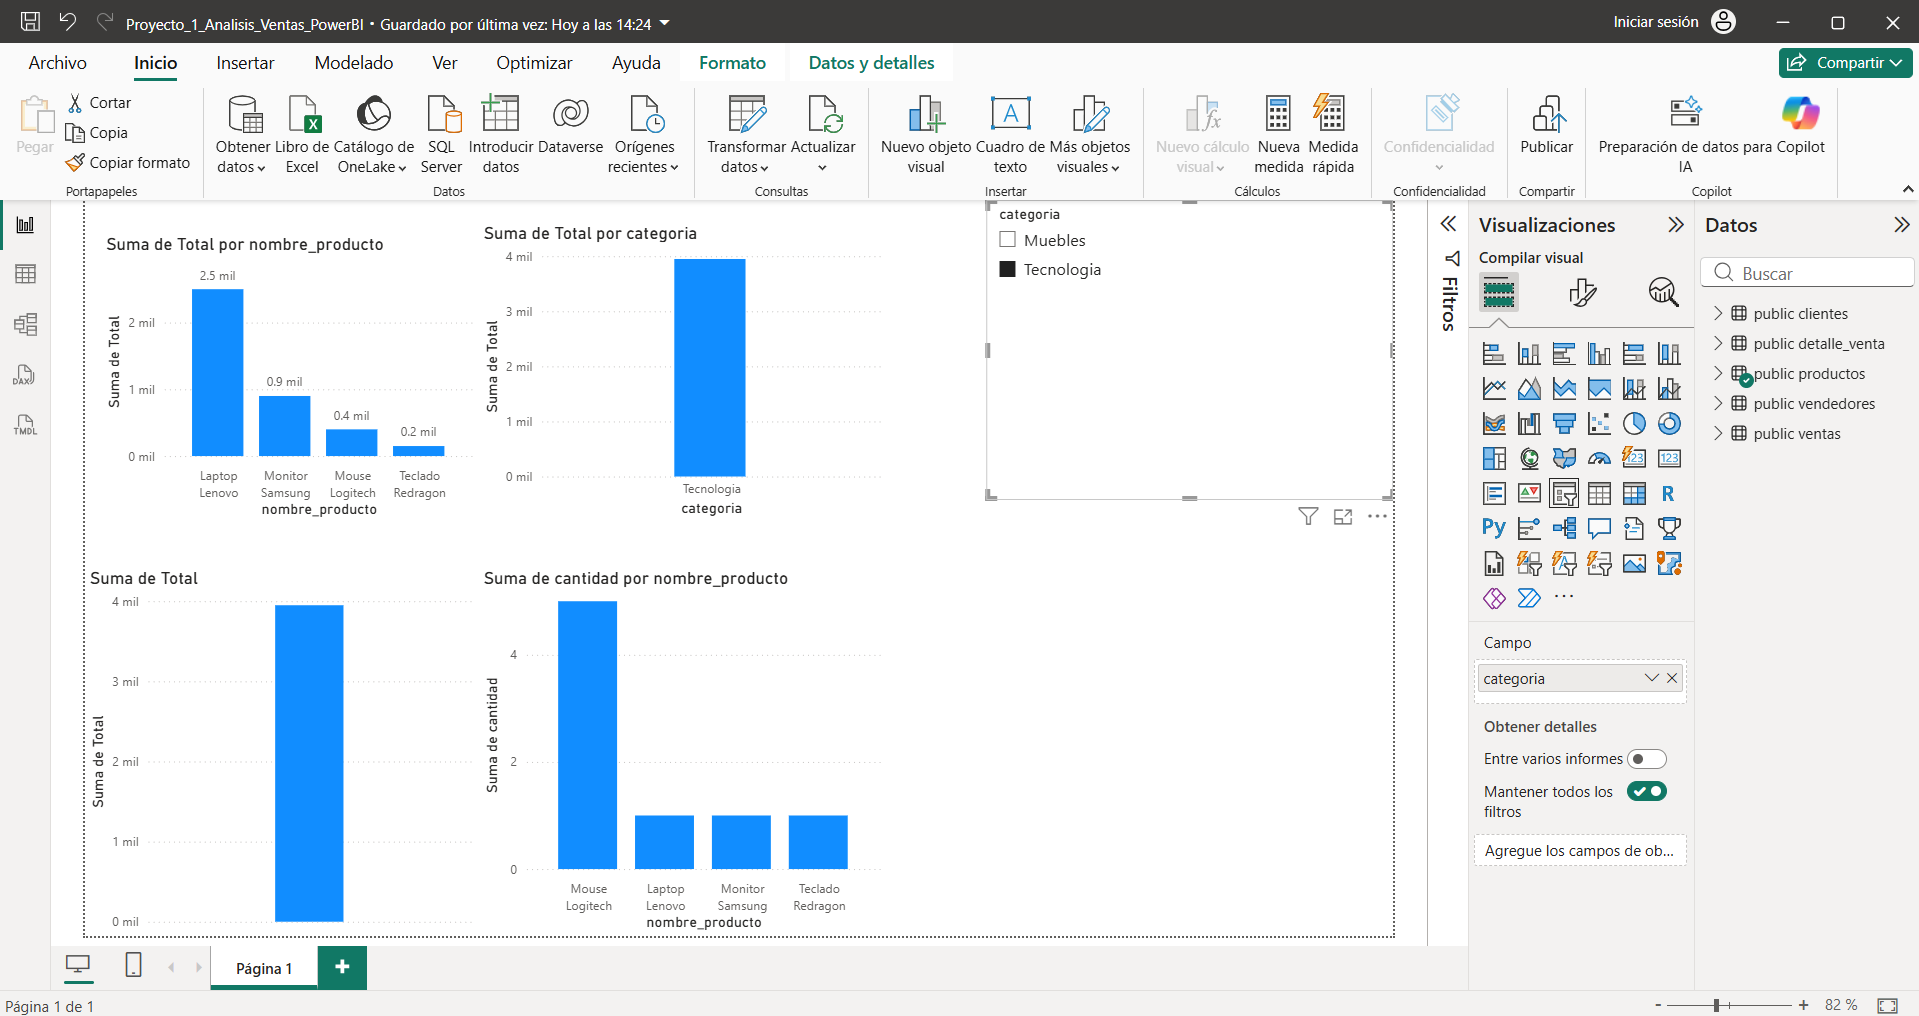

The dashboard page shown, as its layout file describes it:
{"tool":"powerbi","page":{"name":"Página 1","canvas":[1280,720],"ordinal":0},"visuals":[{"type":"clusteredColumnChart","fields":{"Category":["public productos.nombre_producto"],"Y":["Sum(public detalle_venta.Total)"]},"box":[15.9,33,369.3,282.5],"z":0},{"type":"clusteredColumnChart","fields":{"Category":["public productos.categoria"],"Y":["Sum(public detalle_venta.Total)"]},"box":[385,22.5,398.8,292.5],"z":1000},{"type":"clusteredColumnChart","fields":{"Y":["Sum(public detalle_venta.Total)"]},"box":[0,359.5,385.2,360.7],"z":2000},{"type":"clusteredColumnChart","fields":{"Category":["public productos.nombre_producto"],"Y":["Sum(public detalle_venta.cantidad)"]},"box":[385,360,398.8,360],"z":3000},{"type":"slicer","fields":{"Values":["public productos.categoria"]},"box":[881.2,0,398.8,293.8],"z":4000}]}

Visuals, with their boxes on the page's 1280x720 design canvas (x1, y1, x2, y2). These are canvas units, not pixel positions in the 1919x1016 screenshot, which may show the page scaled, cropped or inside an application window:
clusteredColumnChart - public productos.nombre_producto x Sum(public detalle_venta.Total): [left=16, top=33, right=385, bottom=316]
clusteredColumnChart - public productos.categoria x Sum(public detalle_venta.Total): [left=385, top=22, right=784, bottom=315]
clusteredColumnChart - Sum(public detalle_venta.Total): [left=0, top=360, right=385, bottom=720]
clusteredColumnChart - public productos.nombre_producto x Sum(public detalle_venta.cantidad): [left=385, top=360, right=784, bottom=720]
slicer - public productos.categoria: [left=881, top=0, right=1280, bottom=294]
